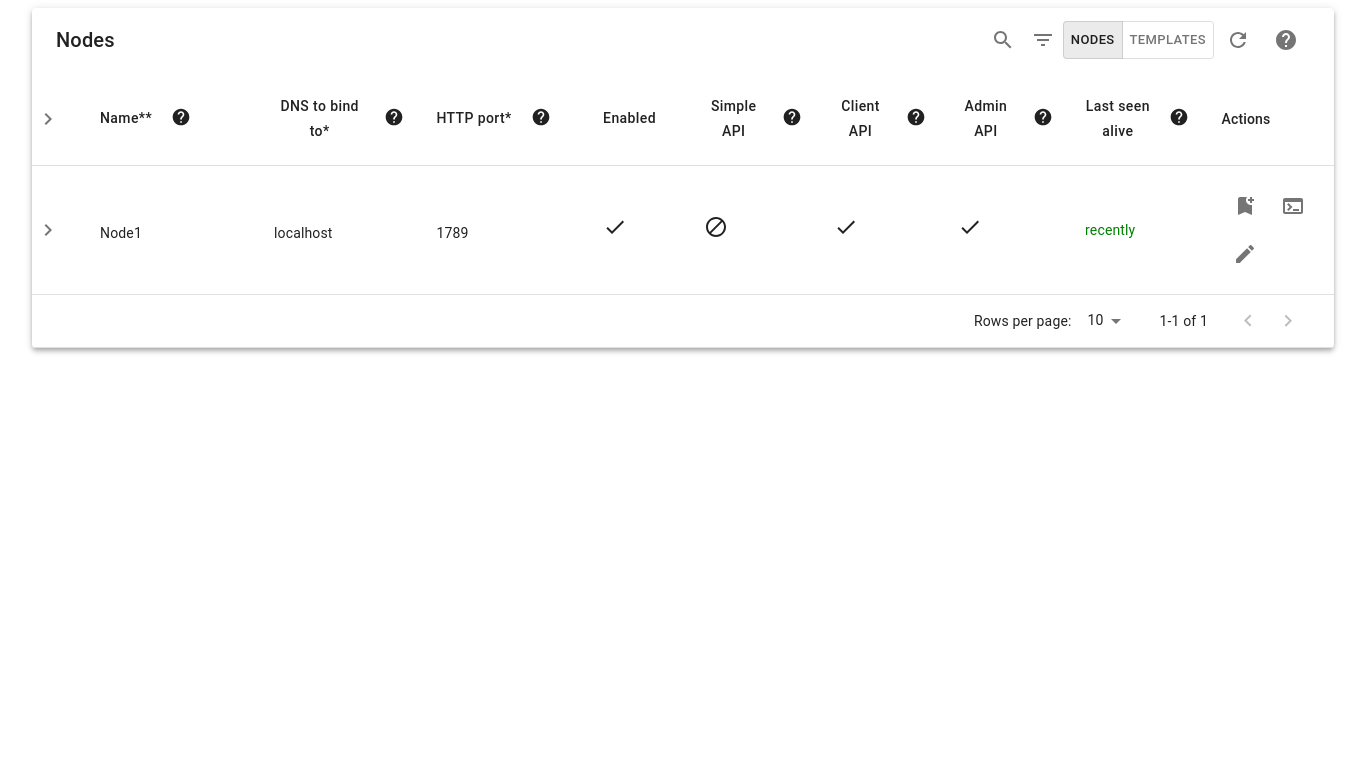
Scenario: NodesPage › opens the node log dialog when clicking view node logs
The image size is (1366, 768).
Expected: the 1st field showing "Node1" is shown, [100,219,242,248]
Click the button named "View node logs": [1294, 206] box [1270,182,1318,230]
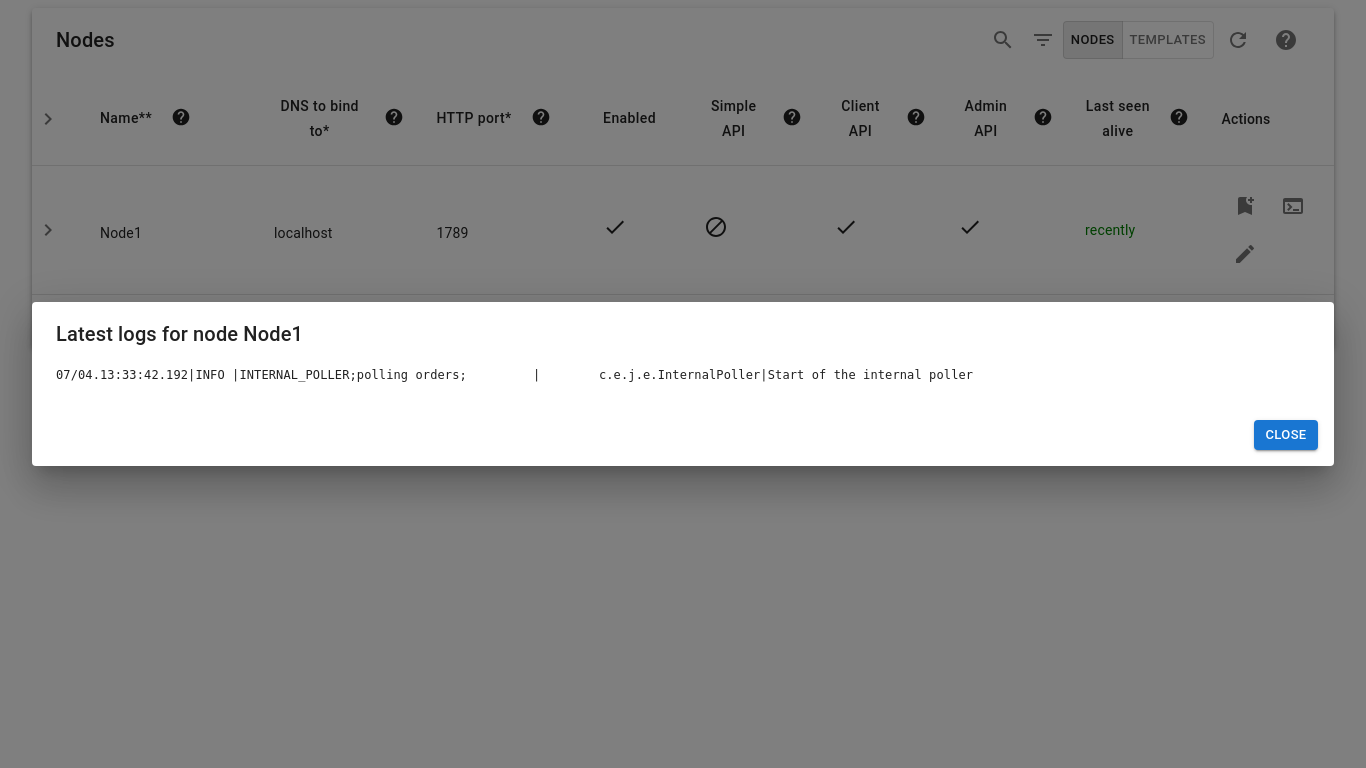
Result: the heading "Latest logs for node Node1" is shown at [56,322,303,346]
